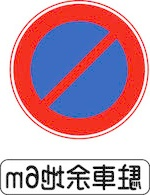Prohibition_sign: (8, 1, 149, 145)
